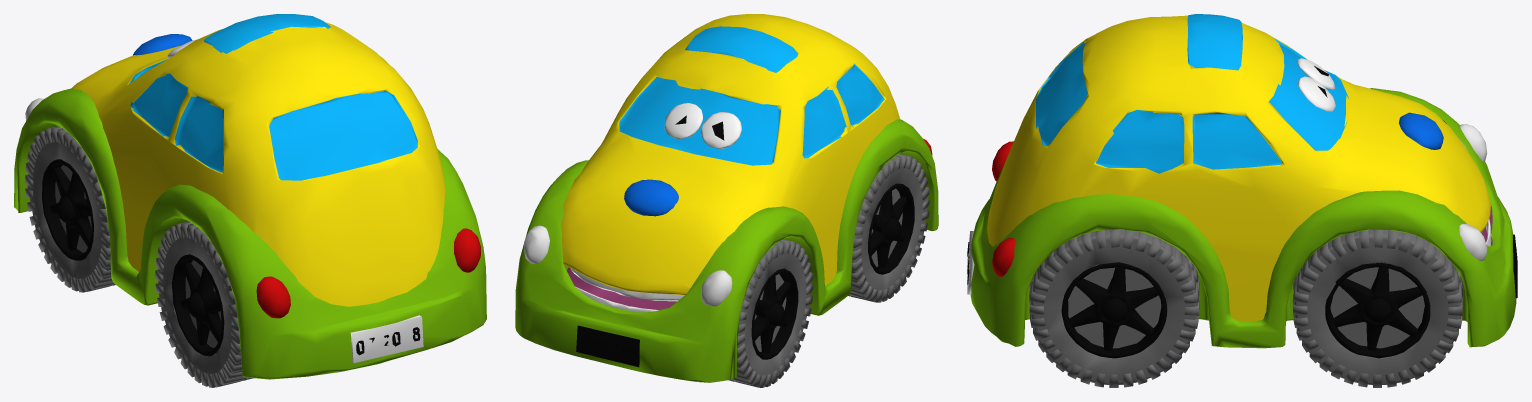
File: toy_car2_LOD01.fbx
The picture shows the model from 3 angles, left to right: view 1: azimuth 30°, elevation 25°; view 2: azimuth 150°, elevation 25°; view 3: azimuth 270°, elevation 25°; orthographic projection. The views are drawn at different scales.
Visible parts, largest first — view 1: toy_car2; view 2: toy_car2; view 3: toy_car2.
Part boxes in pixels (x1=…): toy_car2: x1=14, y1=14, x2=486, y2=387; toy_car2: x1=515, y1=14, x2=938, y2=387; toy_car2: x1=967, y1=14, x2=1517, y2=387.
Bounding box in the file's own units: 26.36 × 29.17 × 48.35.
